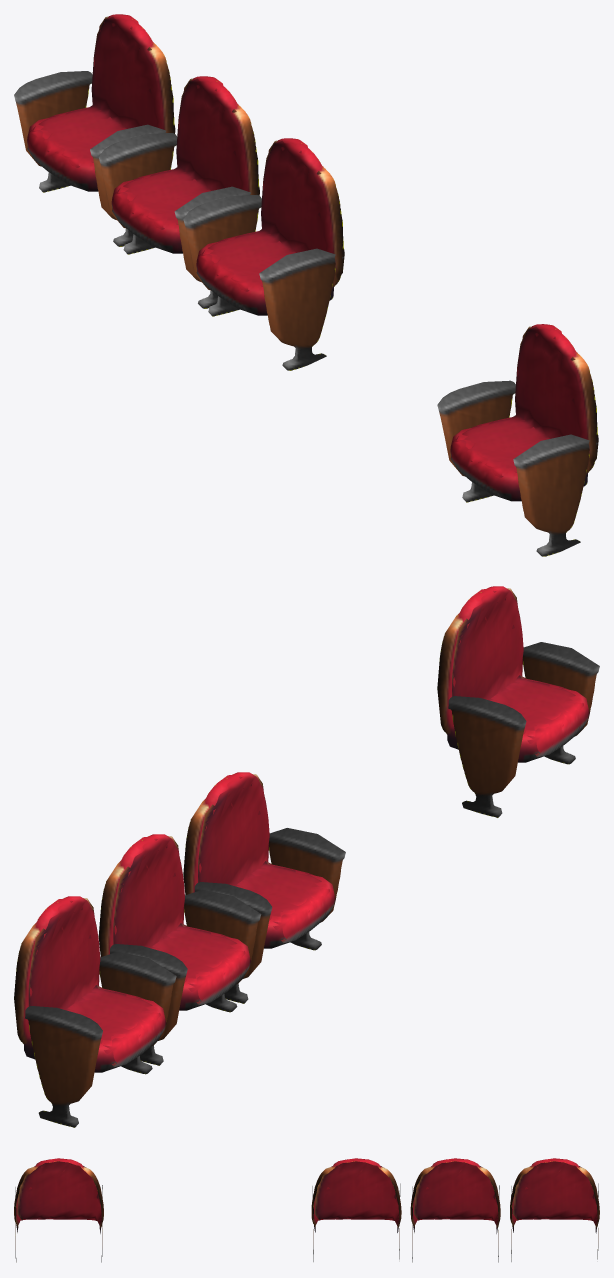
The model's file is chairs_right.fbx.
The picture shows the model from 3 angles, top to bottom: view 1: azimuth 30°, elevation 25°; view 2: azimuth 150°, elevation 25°; view 3: azimuth 270°, elevation 25°; orthographic projection. The views are drawn at different scales.
Parts seen in each view (by area): view 1: chair_theatre_right; view 2: chair_theatre_right; view 3: chair_theatre_right.
Part boxes in pixels (left/top/right/bottom): chair_theatre_right: left=14, top=14, right=598, bottom=556; chair_theatre_right: left=14, top=586, right=599, bottom=1127; chair_theatre_right: left=14, top=1158, right=599, bottom=1262.
Size of the model in its own units: 62.8 by 118 by 569.
Materials: 2 (2 with a texture image).
